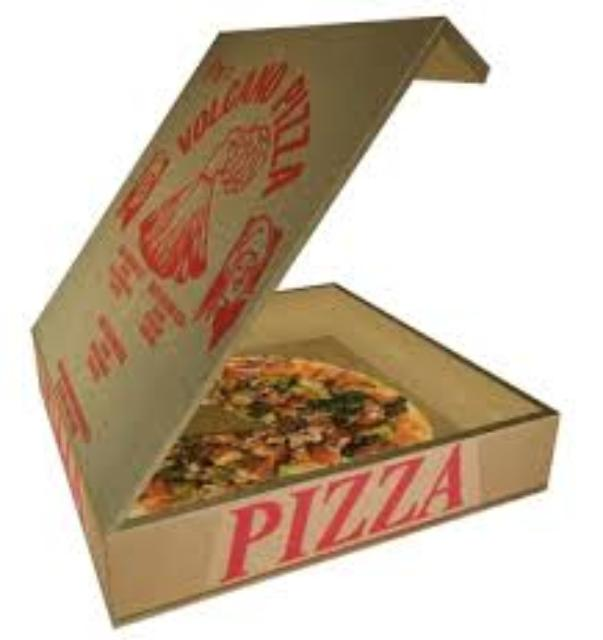cardboard paper: (30, 14, 554, 615)
